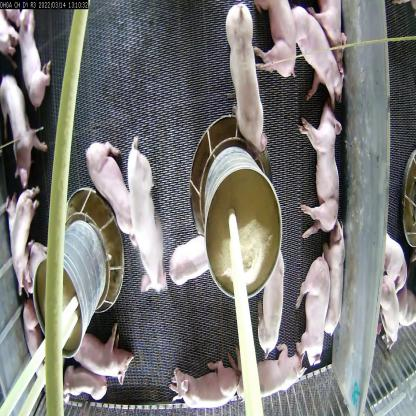Pig: (288, 0, 350, 118), (124, 145, 165, 292), (226, 0, 264, 151), (304, 96, 340, 240), (88, 138, 138, 227), (4, 64, 41, 180), (295, 252, 330, 371), (17, 0, 55, 109), (83, 321, 137, 386), (13, 190, 48, 282), (167, 362, 240, 406), (324, 216, 348, 336), (252, 342, 303, 395)
